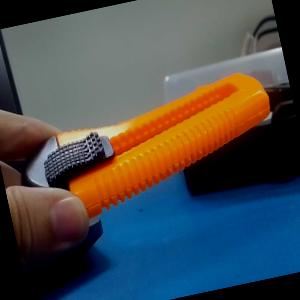estilete: (8, 67, 285, 230)
